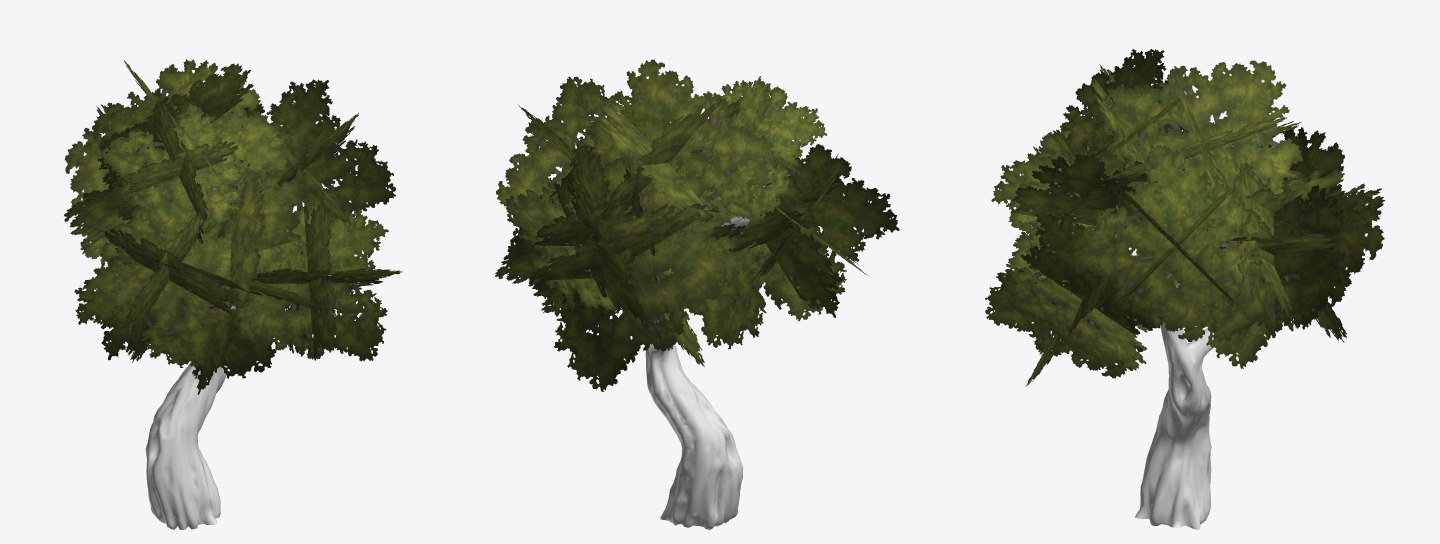
Rendered from Tree 1.fbx.
3 renders of one model, left to right at view 1: azimuth 30°, elevation 25°; view 2: azimuth 150°, elevation 25°; view 3: azimuth 270°, elevation 25°, orthographic. The views are drawn at different scales.
Visible parts, largest first — view 1: Leaves, Bark; view 2: Leaves, Bark; view 3: Leaves, Bark.
Part boxes in pixels (x1,y1,x2,y2): Leaves: (64, 59, 402, 394); Bark: (145, 305, 235, 529); Leaves: (495, 59, 899, 391); Bark: (645, 186, 764, 529); Leaves: (985, 49, 1384, 386); Bark: (1128, 247, 1214, 529).
Bounding box in the file's own units: 1893 × 2376 × 2029.
